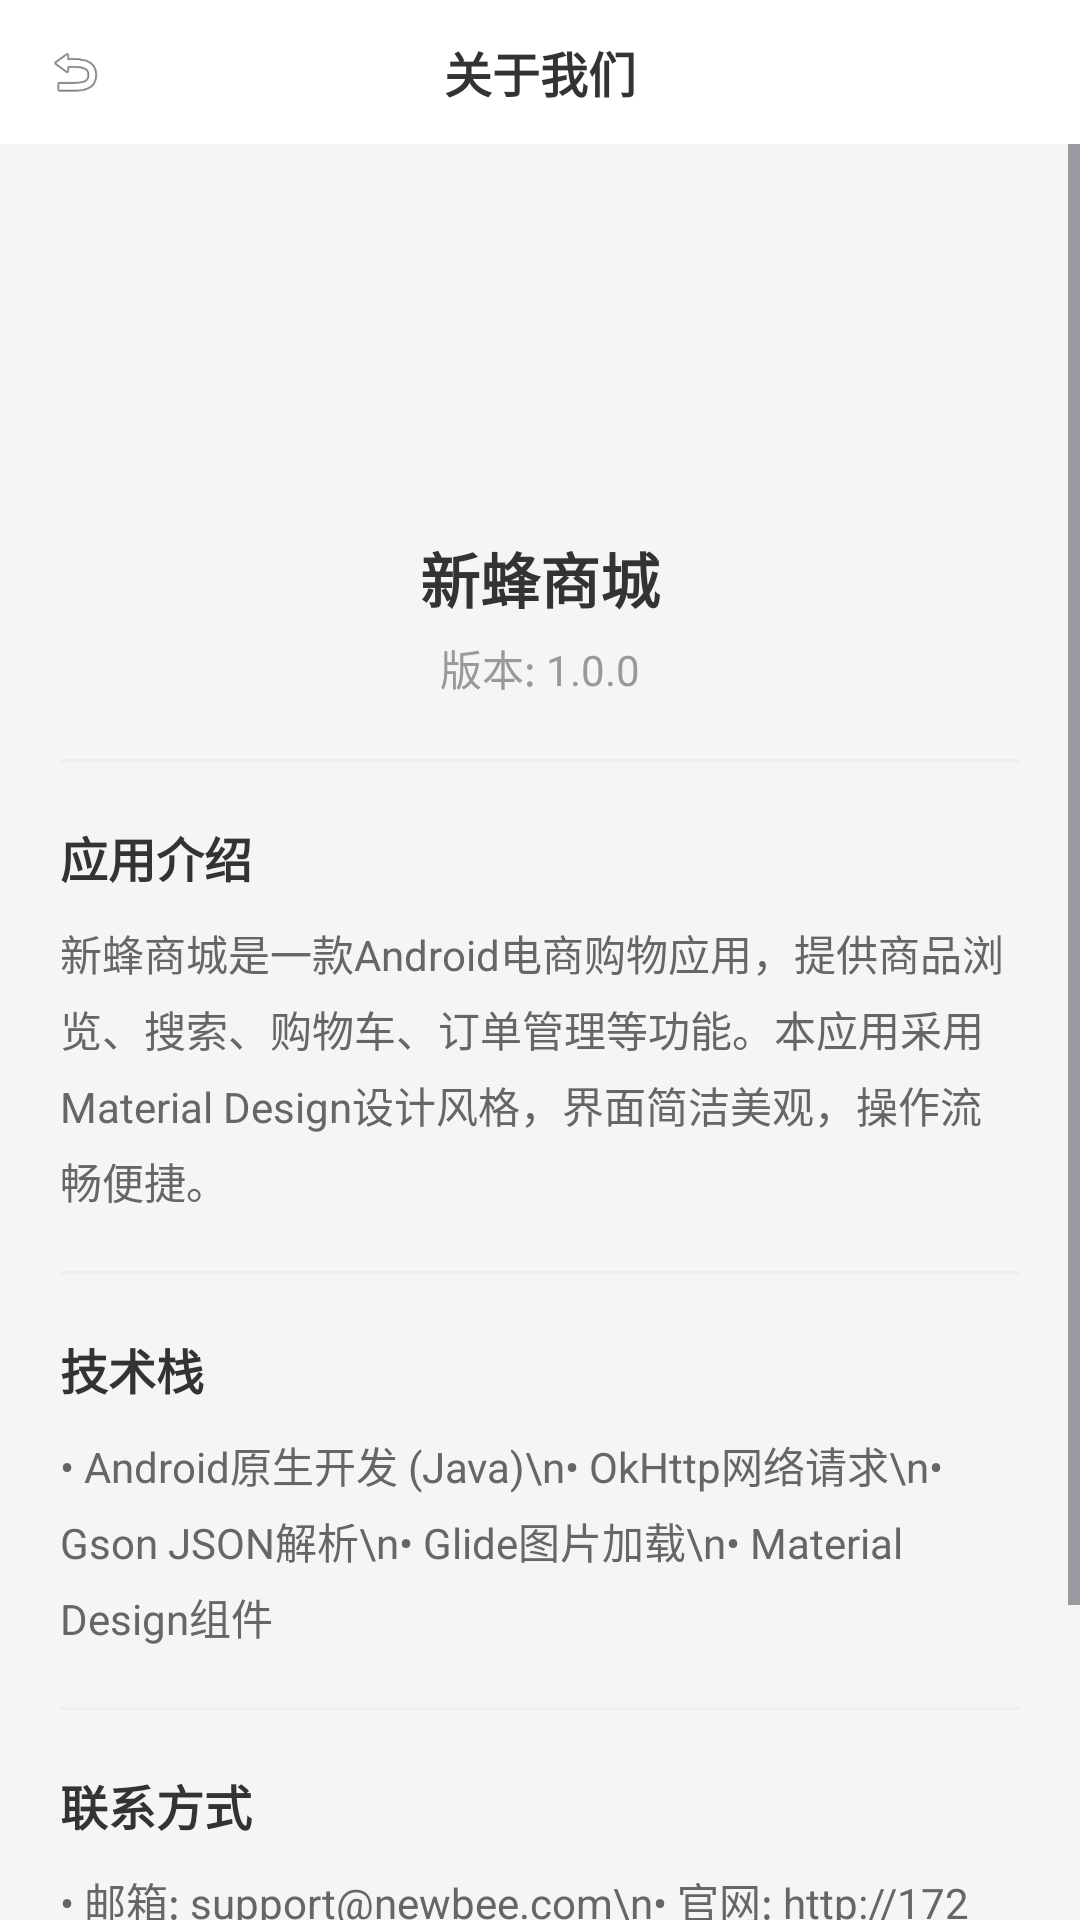

Locate icon controls on the screen. Image size 1080w x 1920h, boxes as (x1, y1, x2, y2).
revert: (54, 53, 98, 92)
